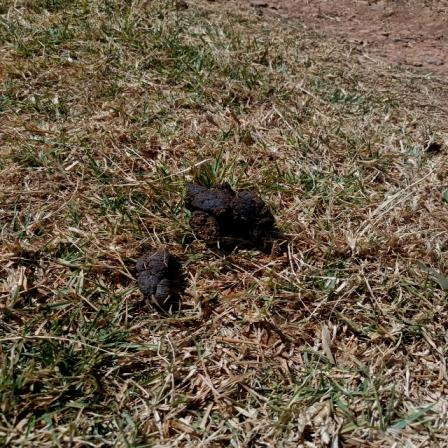dog-poop: (186, 176, 278, 246), (136, 254, 180, 306)
